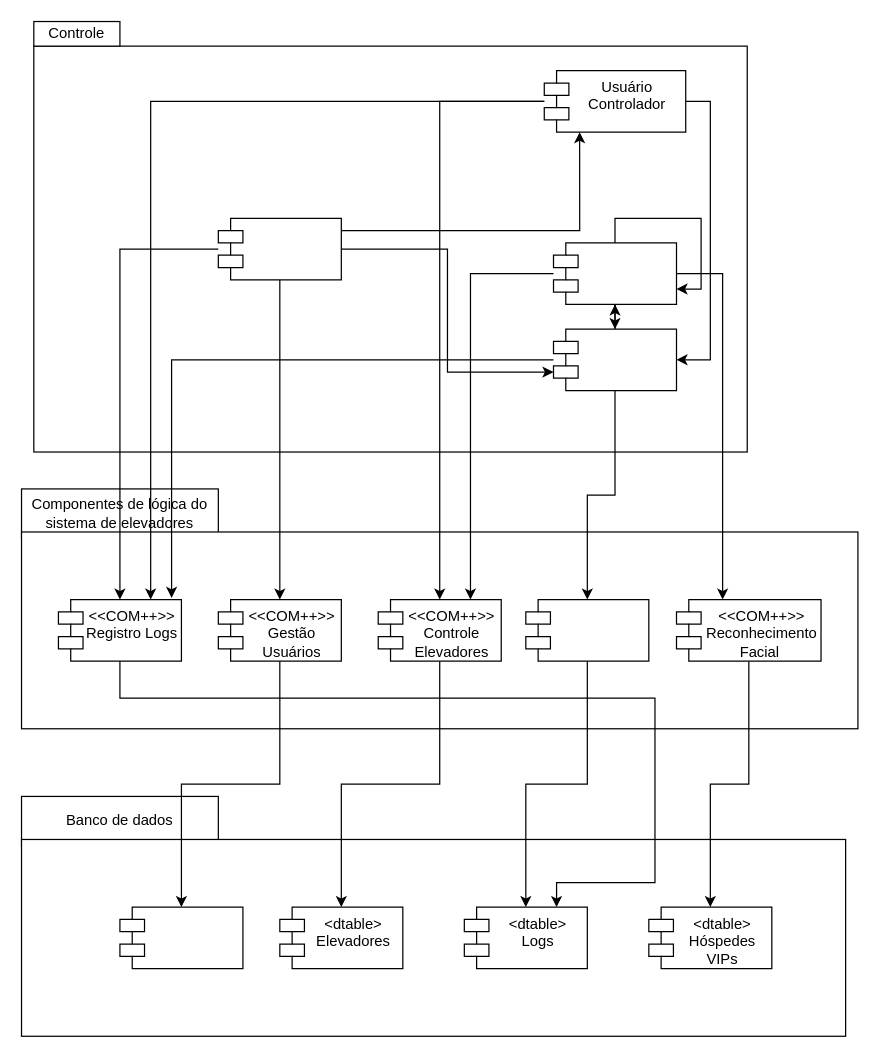
This 879x1058 diagram has some shape labels left out. The box of each missing label's shape, as (x1, y1, x2, y2) in pixels:
<<COM++>> Gestão Emergências: (525, 598, 649, 661)
<dtable> Usuários: (119, 906, 243, 969)
Elevador: (552, 242, 676, 304)
Sala de Comando: (552, 328, 676, 391)
Usuário Master: (217, 217, 341, 280)
